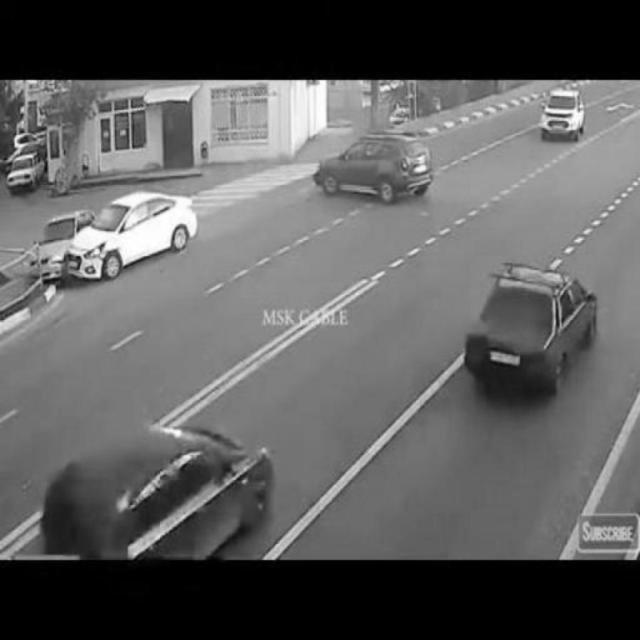accident: (32, 188, 198, 282)
vehicle: (57, 424, 274, 554), (466, 263, 598, 400), (311, 135, 432, 199), (543, 88, 588, 138)
